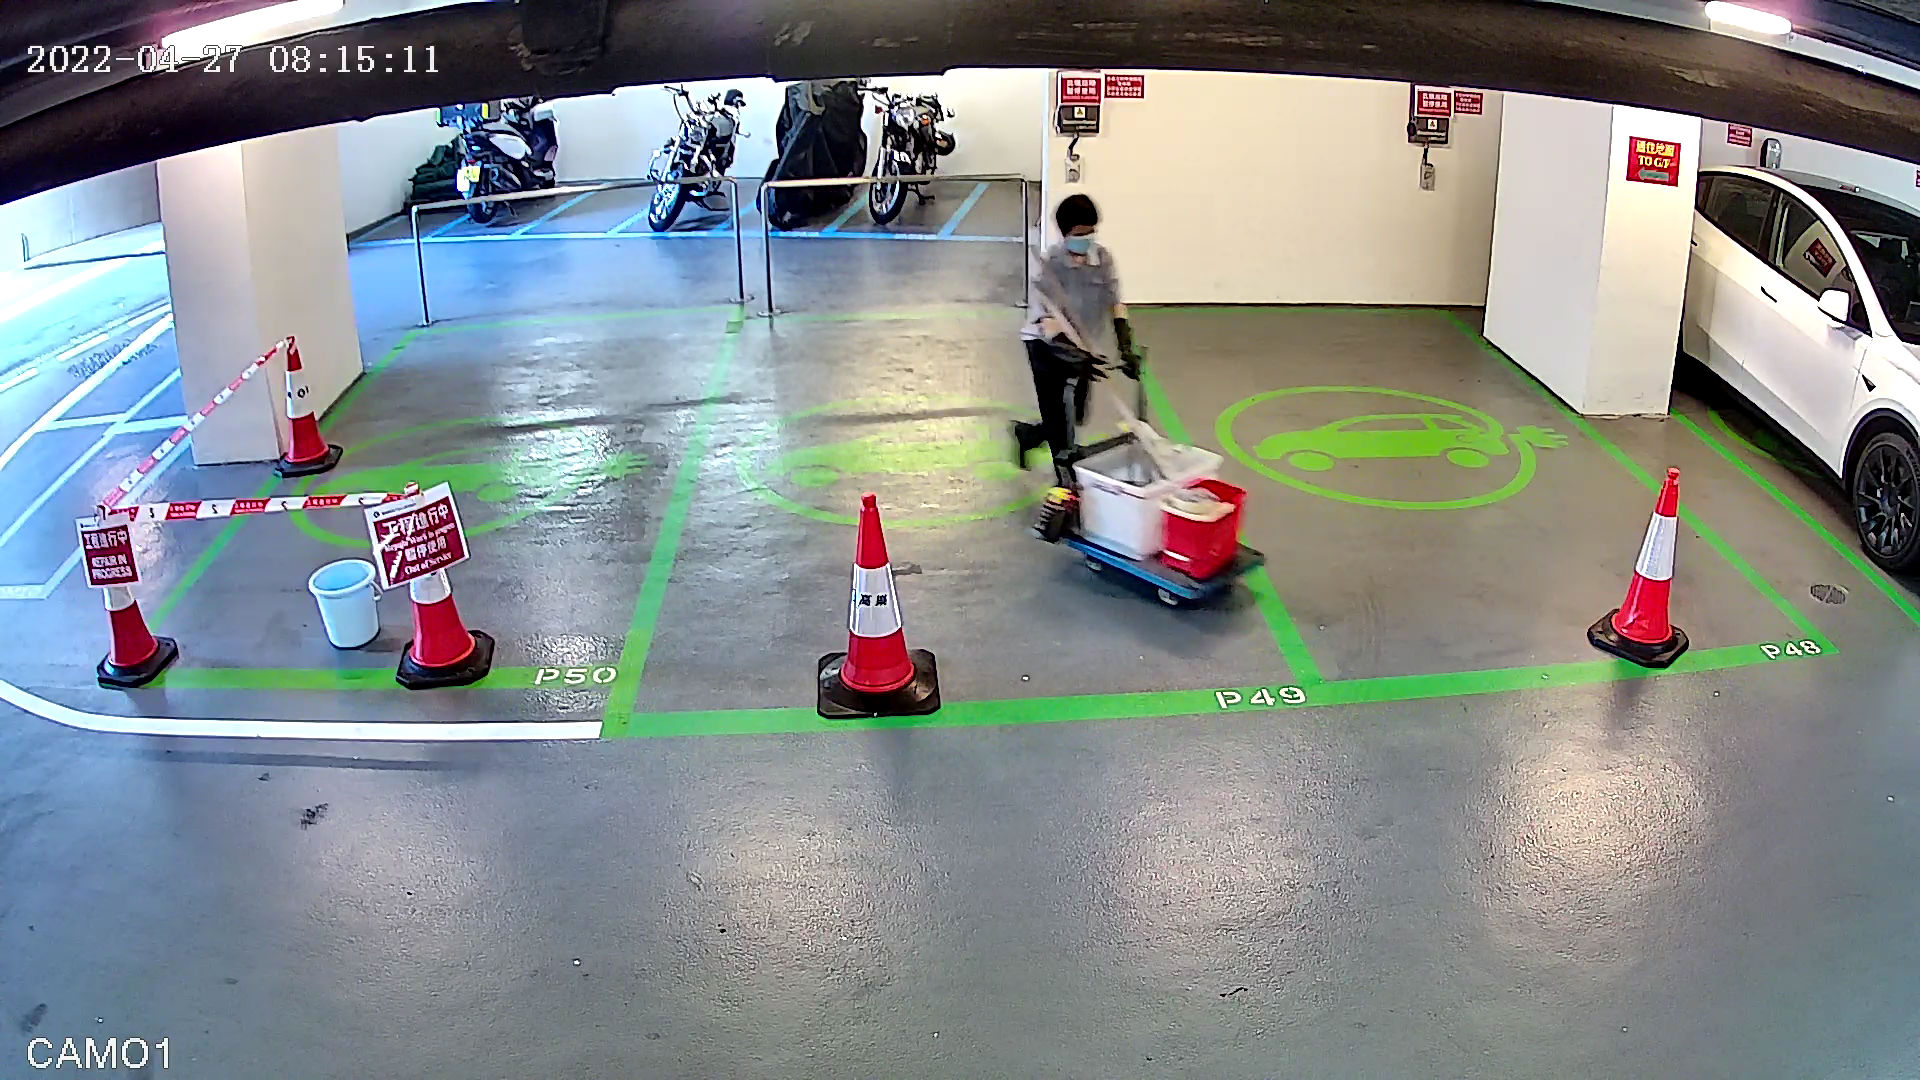space: (574, 269, 1337, 749), (1097, 268, 1862, 713)
